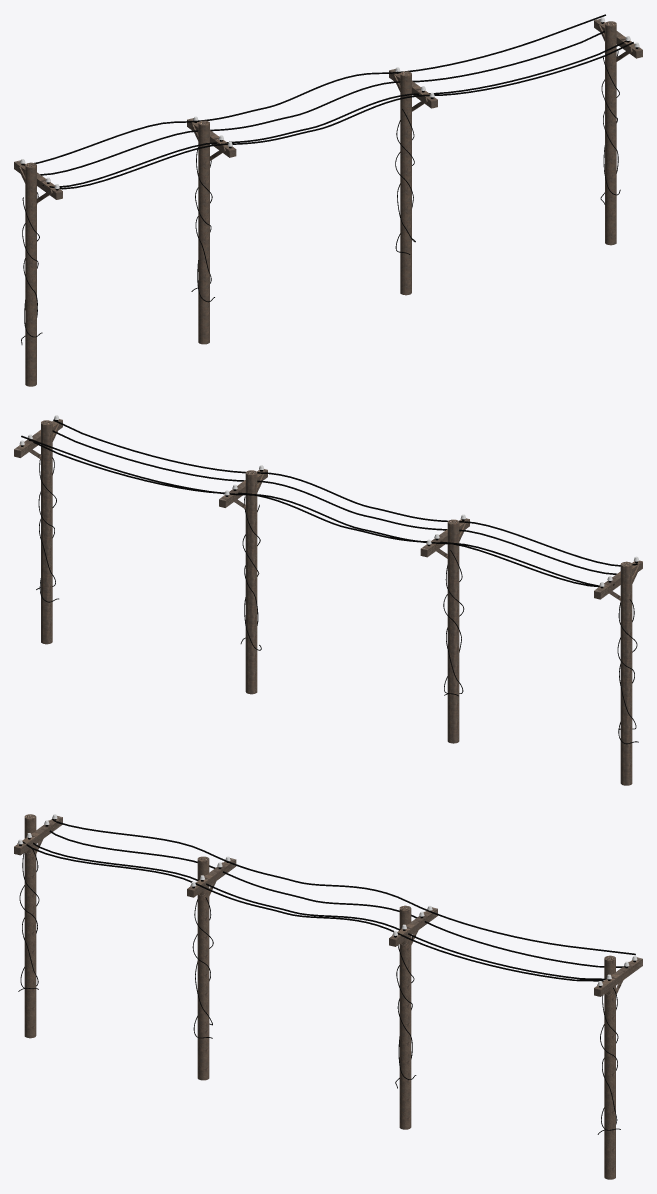
The model's file is telephone_pole_scene.glb.
3 renders of one model, top to bottom at view 1: azimuth 30°, elevation 25°; view 2: azimuth 150°, elevation 25°; view 3: azimuth 330°, elevation 25°, orthographic.
Visible parts, largest first — view 1: object 9, Circle.003_6, Circle_0, Circle.001_2, Circle.002_4; view 2: object 9, Circle.003_6, Circle.002_4, Circle.001_2, Circle_0; view 3: object 9, Circle.002_4, Circle.003_6, Circle.001_2, Circle_0.
Part boxes in pixels (<box>): object 9: <box>22,14,633,189</box>; Circle.003_6: <box>14,159,62,386</box>; Circle_0: <box>594,17,642,245</box>; Circle.001_2: <box>389,67,437,295</box>; Circle.002_4: <box>187,116,236,344</box>; object 9: <box>21,419,637,587</box>; Circle.003_6: <box>594,556,642,785</box>; Circle.002_4: <box>420,514,469,743</box>; Circle.001_2: <box>219,465,267,694</box>; Circle_0: <box>14,415,62,644</box>; object 9: <box>22,818,635,981</box>; Circle.002_4: <box>187,856,236,1080</box>; Circle.003_6: <box>14,814,62,1038</box>; Circle.001_2: <box>389,905,437,1129</box>; Circle_0: <box>594,955,642,1179</box>.
Bounding box in the file's own units: 66.81 × 23.23 × 8.17.
Materials: 4 (1 with a texture image).
